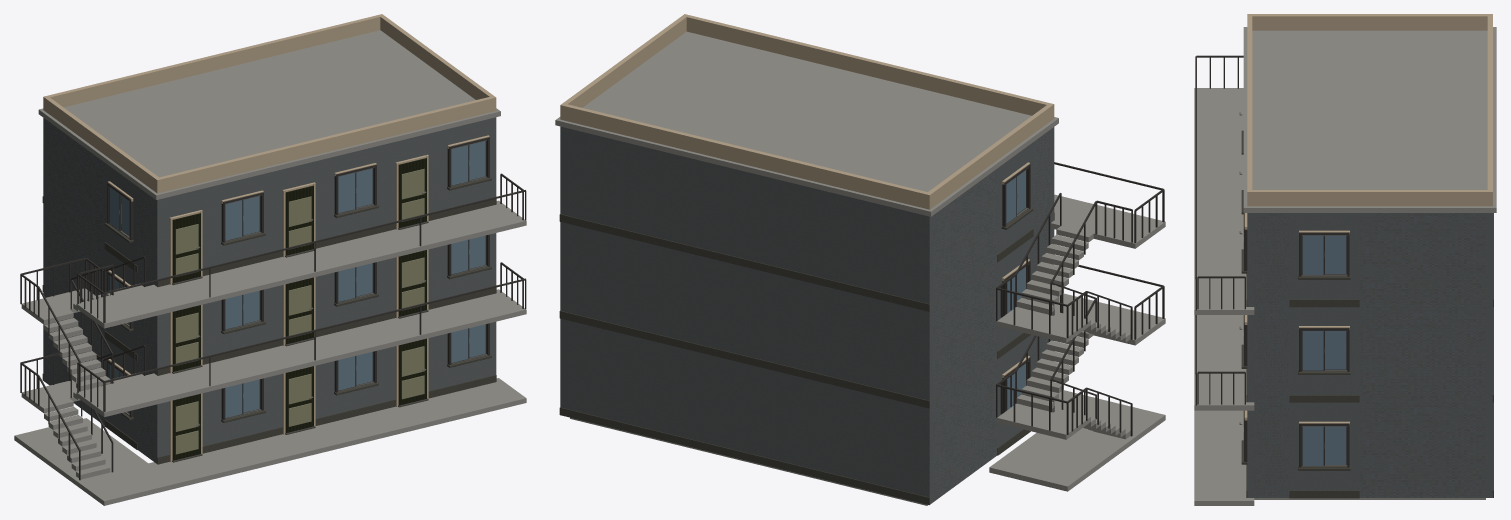
Rendered from MS_PF_04_ApartmentBlock.glb.
3 views of the same model, side by side, from view 1: azimuth 30°, elevation 25°; view 2: azimuth 150°, elevation 25°; view 3: azimuth 270°, elevation 25° (orthographic). The views are drawn at different scales.
Visible parts, largest first — view 1: StaticBatch20, StaticBatch18, StaticBatch10, StaticBatch27, StaticBatch6, StaticBatch2, StaticBatch28, StaticBatch17, StaticBatch16, Plaster_0057, Plaster_0058, Plaster_0059 (+35 smaller); view 2: StaticBatch10, StaticBatch6, StaticBatch2, StaticBatch18, StaticBatch27, StaticBatch20, StaticBatch17, StaticBatch16, StaticBatch26, StaticBatch8, StaticBatch4, StaticBatch12 (+3 smaller); view 3: StaticBatch18, StaticBatch2, StaticBatch20, StaticBatch6, StaticBatch10, StaticBatch27, StaticBatch28, StaticBatch11, StaticBatch3, StaticBatch7, Glass_00110, Glass_0015 (+8 smaller).
Boxes of the visible parts, x1,y1,x2,y2 form: StaticBatch20: [14, 200, 526, 505]; StaticBatch18: [38, 30, 500, 199]; StaticBatch10: [43, 117, 496, 283]; StaticBatch27: [43, 14, 496, 193]; StaticBatch6: [43, 204, 496, 372]; StaticBatch2: [43, 292, 496, 461]; StaticBatch28: [77, 173, 526, 411]; StaticBatch17: [21, 283, 143, 390]; StaticBatch16: [21, 373, 143, 479]; Plaster_0057: [154, 186, 213, 286]; Plaster_0058: [270, 158, 326, 251]; Plaster_0059: [383, 131, 439, 224]; StaticBatch10: [560, 126, 1050, 310]; StaticBatch6: [560, 222, 1050, 407]; StaticBatch2: [560, 318, 1050, 504]; StaticBatch18: [555, 31, 1058, 216]; StaticBatch27: [560, 14, 1054, 209]; StaticBatch20: [989, 194, 1165, 491]; StaticBatch17: [997, 225, 1130, 342]; StaticBatch16: [997, 331, 1130, 439]; StaticBatch26: [996, 193, 1132, 339]; StaticBatch8: [559, 310, 929, 408]; StaticBatch4: [559, 407, 929, 504]; StaticBatch12: [559, 214, 929, 311]; StaticBatch18: [1243, 27, 1496, 212]; StaticBatch2: [1247, 402, 1492, 497]; StaticBatch20: [1194, 88, 1254, 505]; StaticBatch6: [1247, 307, 1492, 402]; StaticBatch10: [1247, 213, 1492, 306]; StaticBatch27: [1247, 14, 1492, 206]; StaticBatch28: [1195, 55, 1245, 405]; StaticBatch11: [1241, 130, 1359, 307]; StaticBatch3: [1241, 440, 1359, 498]; StaticBatch7: [1241, 344, 1359, 402]; Glass_00110: [1302, 331, 1323, 370]; Glass_0015: [1302, 426, 1323, 465].
Bounding box in the file's own units: 14.97 × 9.77 × 8.6.
Materials: 20 (5 with a texture image).
